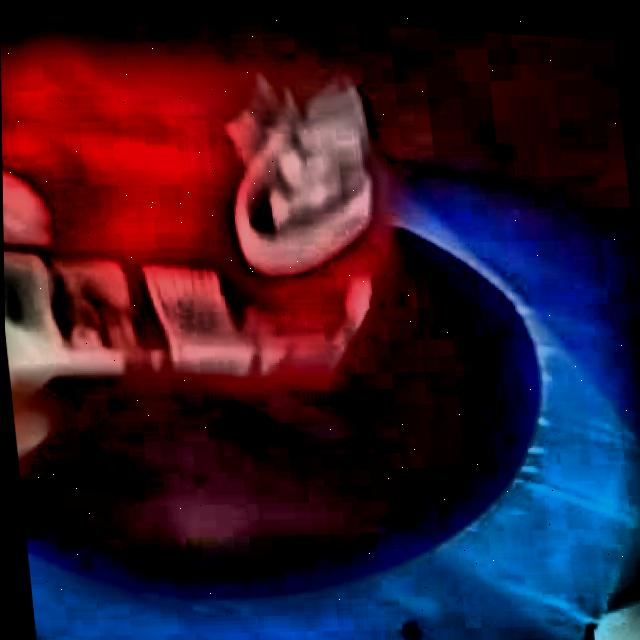metal: (1, 39, 391, 378)
